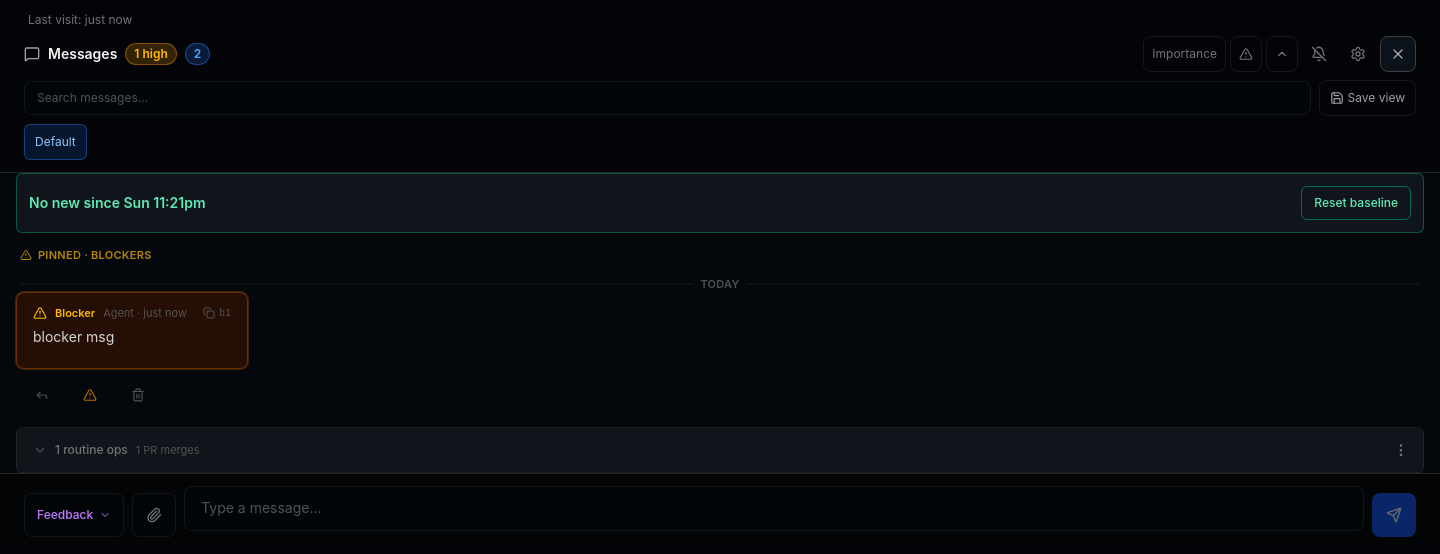
Scenario: MessagesPanel critical-only severity filter › critical-only filter hides routine NOTEs (pr_merged)
Toggle critical-only
Click the button named "Critical only (BLOCKER, BUG, critical NOTEs)": (1246, 54) [1230,36,1262,72]
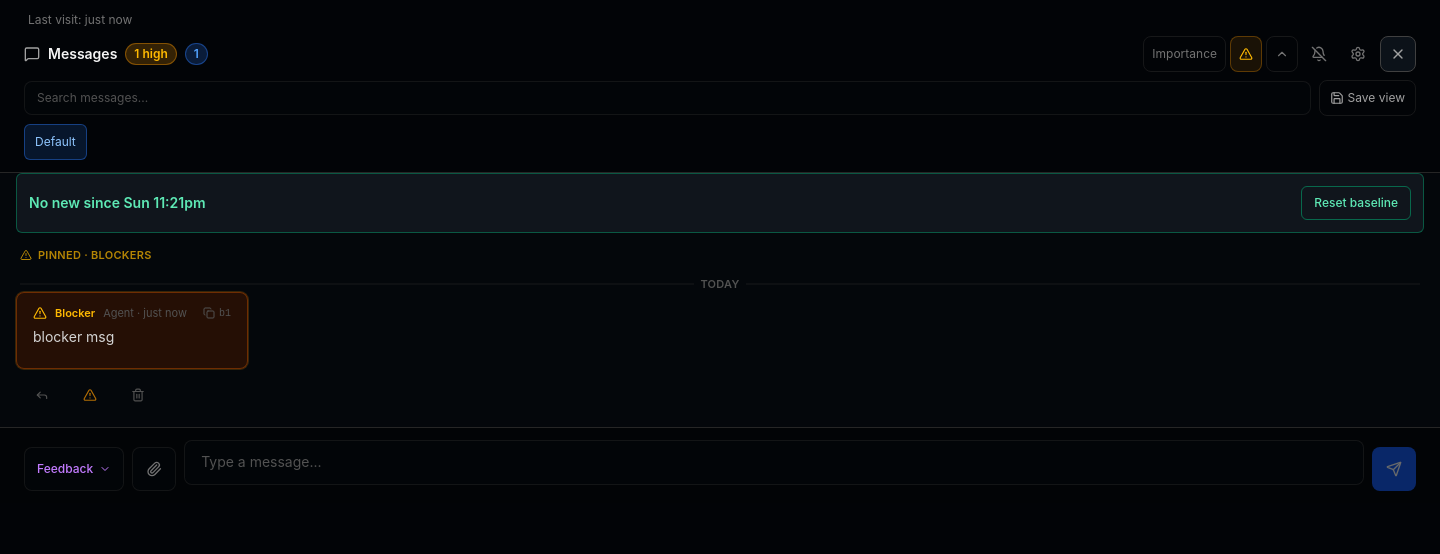
Check: the text "blocker msg" is shown, box [33,328,114,344]
Check: the text "routine ops" is gone
